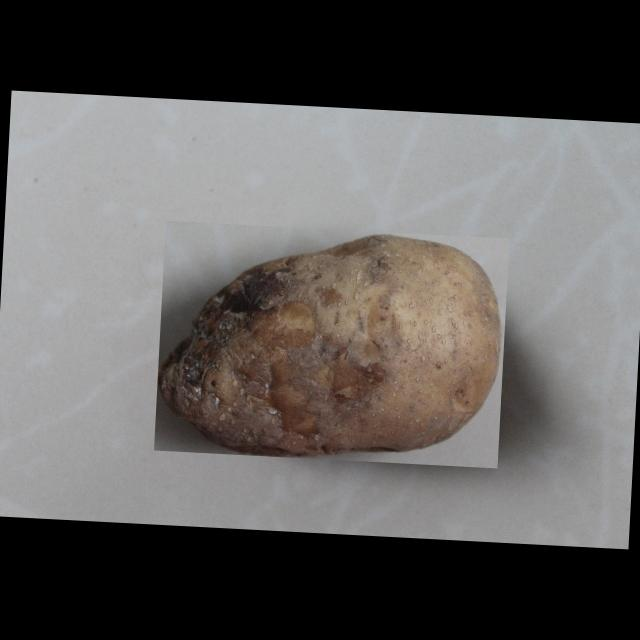Diseased-fungal potato: (153, 221, 510, 468)
